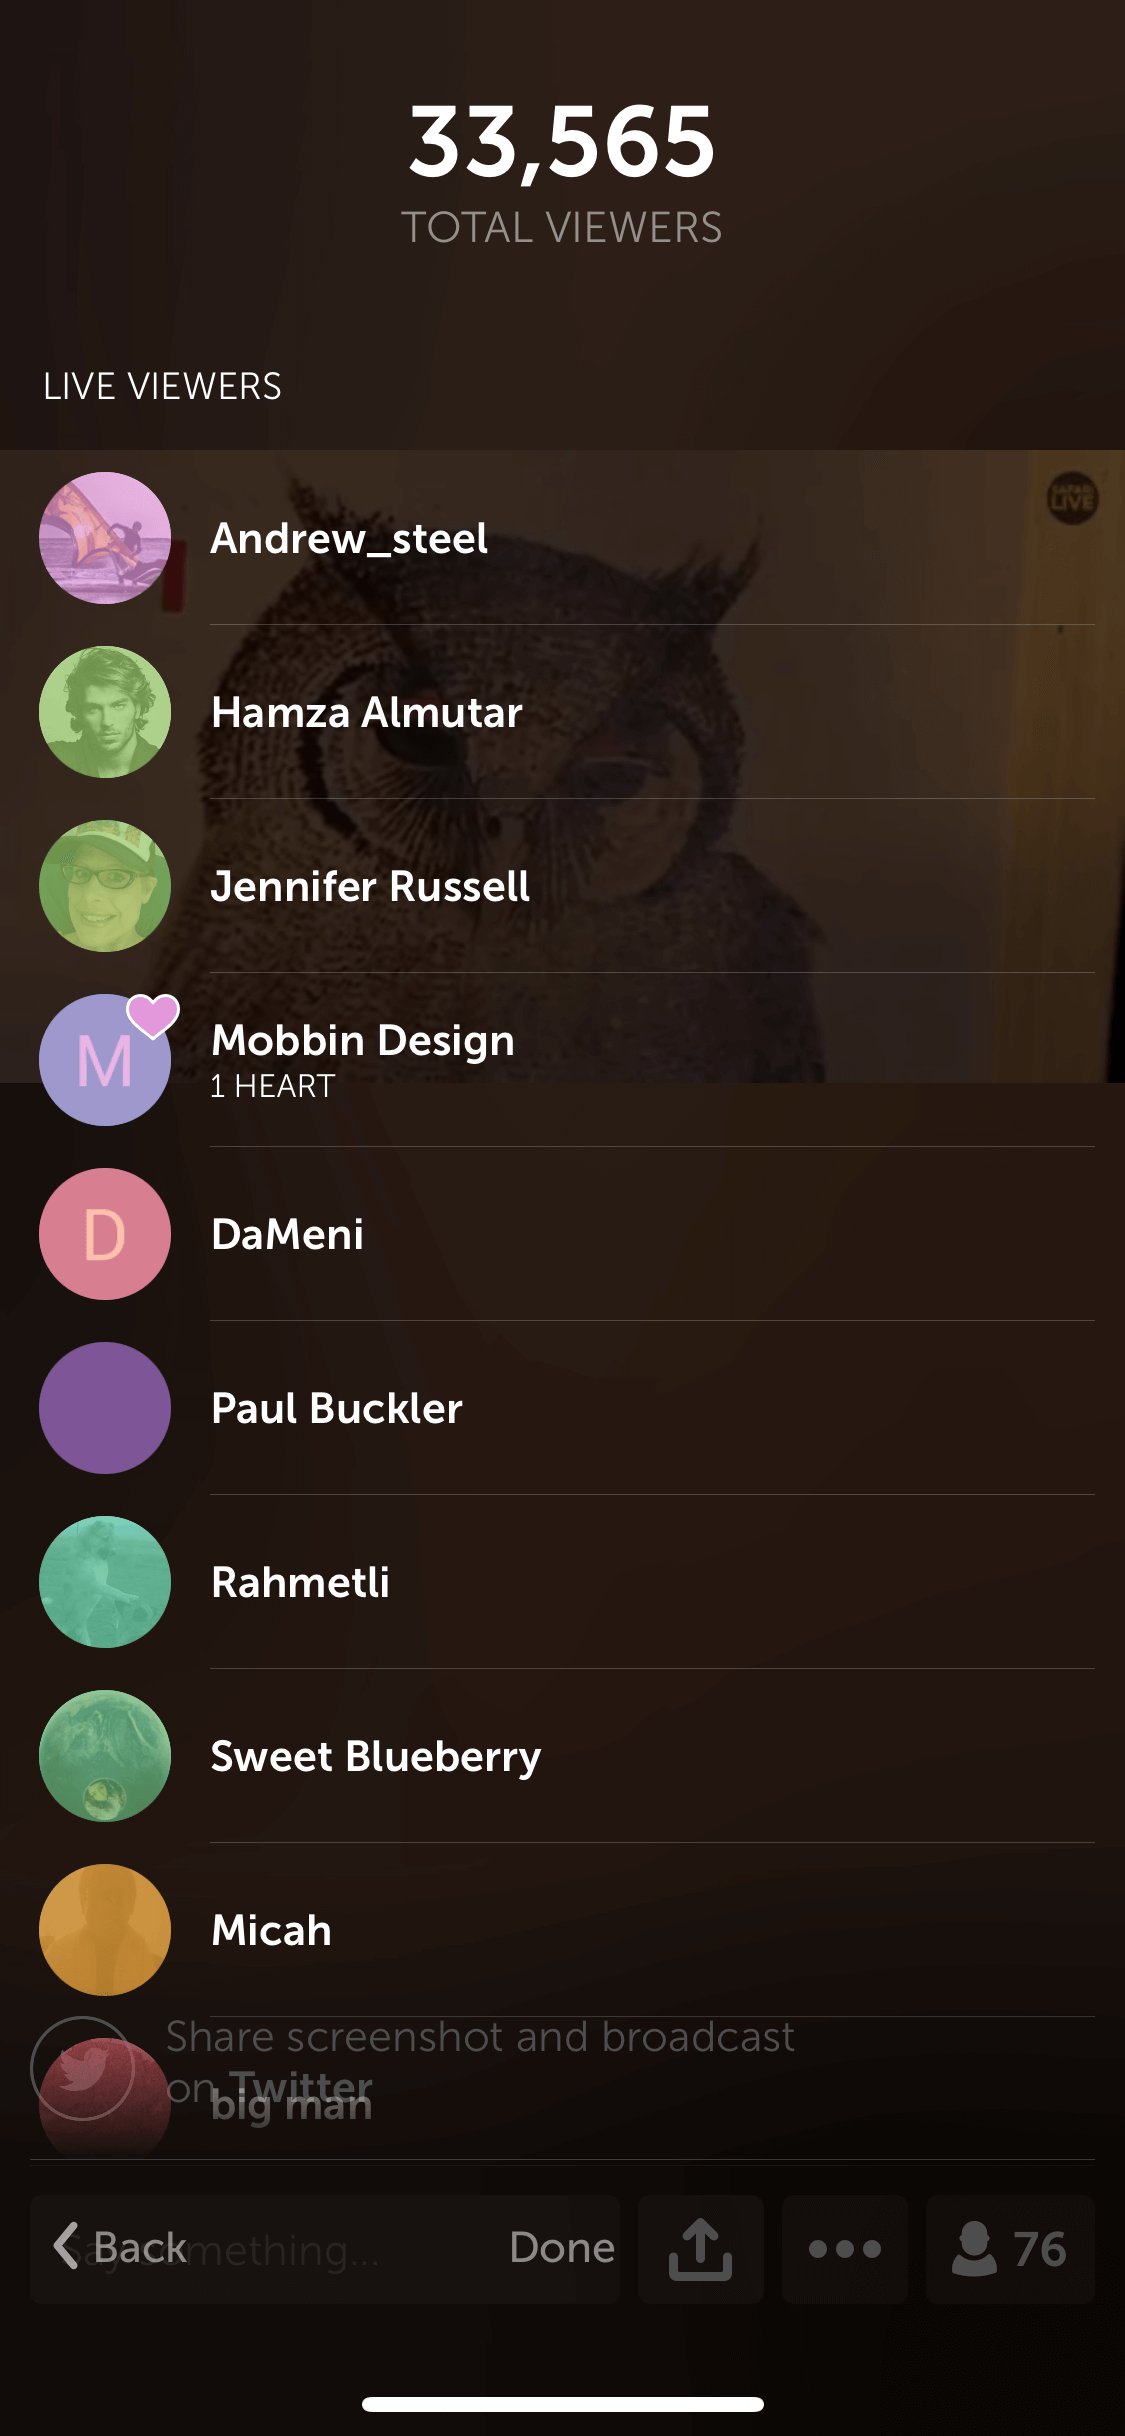Buttons: (6, 2172, 255, 2305), (452, 2170, 657, 2307), (934, 2177, 1085, 2302), (788, 2173, 900, 2299), (657, 2173, 763, 2298)
